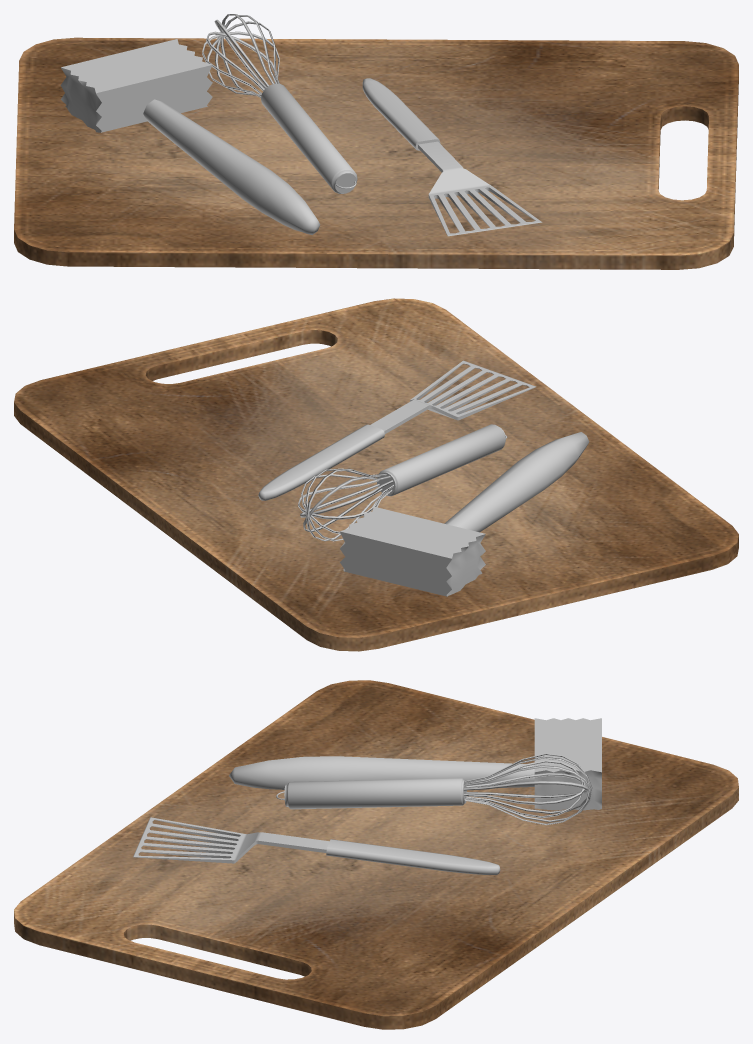
The model's file is cozinha1.fbx.
3 renders of one model, top to bottom at view 1: azimuth 30°, elevation 25°; view 2: azimuth 150°, elevation 25°; view 3: azimuth 270°, elevation 25°, orthographic. The views are drawn at different scales.
Parts seen in each view (by area): view 1: SM_CuttingBoard_Small, SM_Mallet, SM_EggBeater, SM_Spatula_low; view 2: SM_CuttingBoard_Small, SM_Mallet, SM_Spatula_low, SM_EggBeater; view 3: SM_CuttingBoard_Small, SM_Mallet, SM_EggBeater, SM_Spatula_low.
Part boxes in pixels (left/top/right/bottom): SM_CuttingBoard_Small: left=14, top=37, right=738, bottom=269; SM_Mallet: left=60, top=39, right=320, bottom=234; SM_EggBeater: left=202, top=14, right=357, bottom=193; SM_Spatula_low: left=362, top=78, right=542, bottom=236; SM_CuttingBoard_Small: left=14, top=298, right=738, bottom=651; SM_Mallet: left=340, top=432, right=589, bottom=596; SM_Spatula_low: left=258, top=360, right=536, bottom=500; SM_EggBeater: left=298, top=424, right=507, bottom=541; SM_CuttingBoard_Small: left=14, top=680, right=738, bottom=1029; SM_Mallet: left=229, top=718, right=601, bottom=810; SM_EggBeater: left=276, top=753, right=592, bottom=825; SM_Spatula_low: left=133, top=817, right=500, bottom=874.
Bounding box in the file's own units: 60.93 × 7.77 × 55.55.
